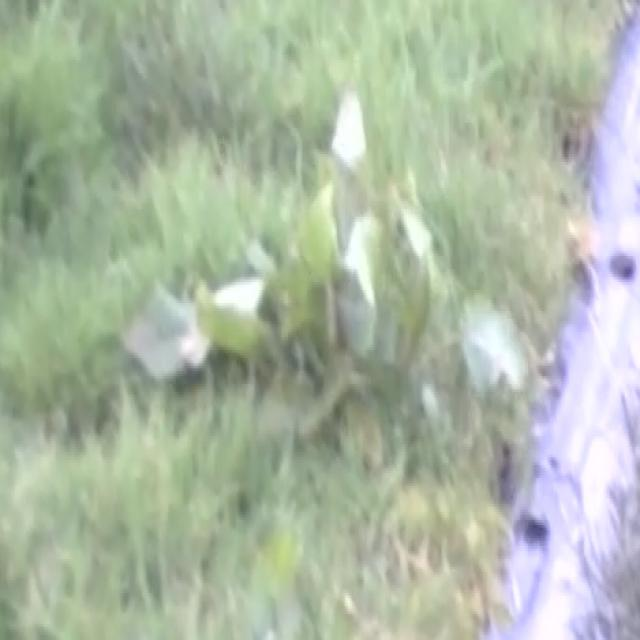organic waste: (111, 95, 550, 538)
